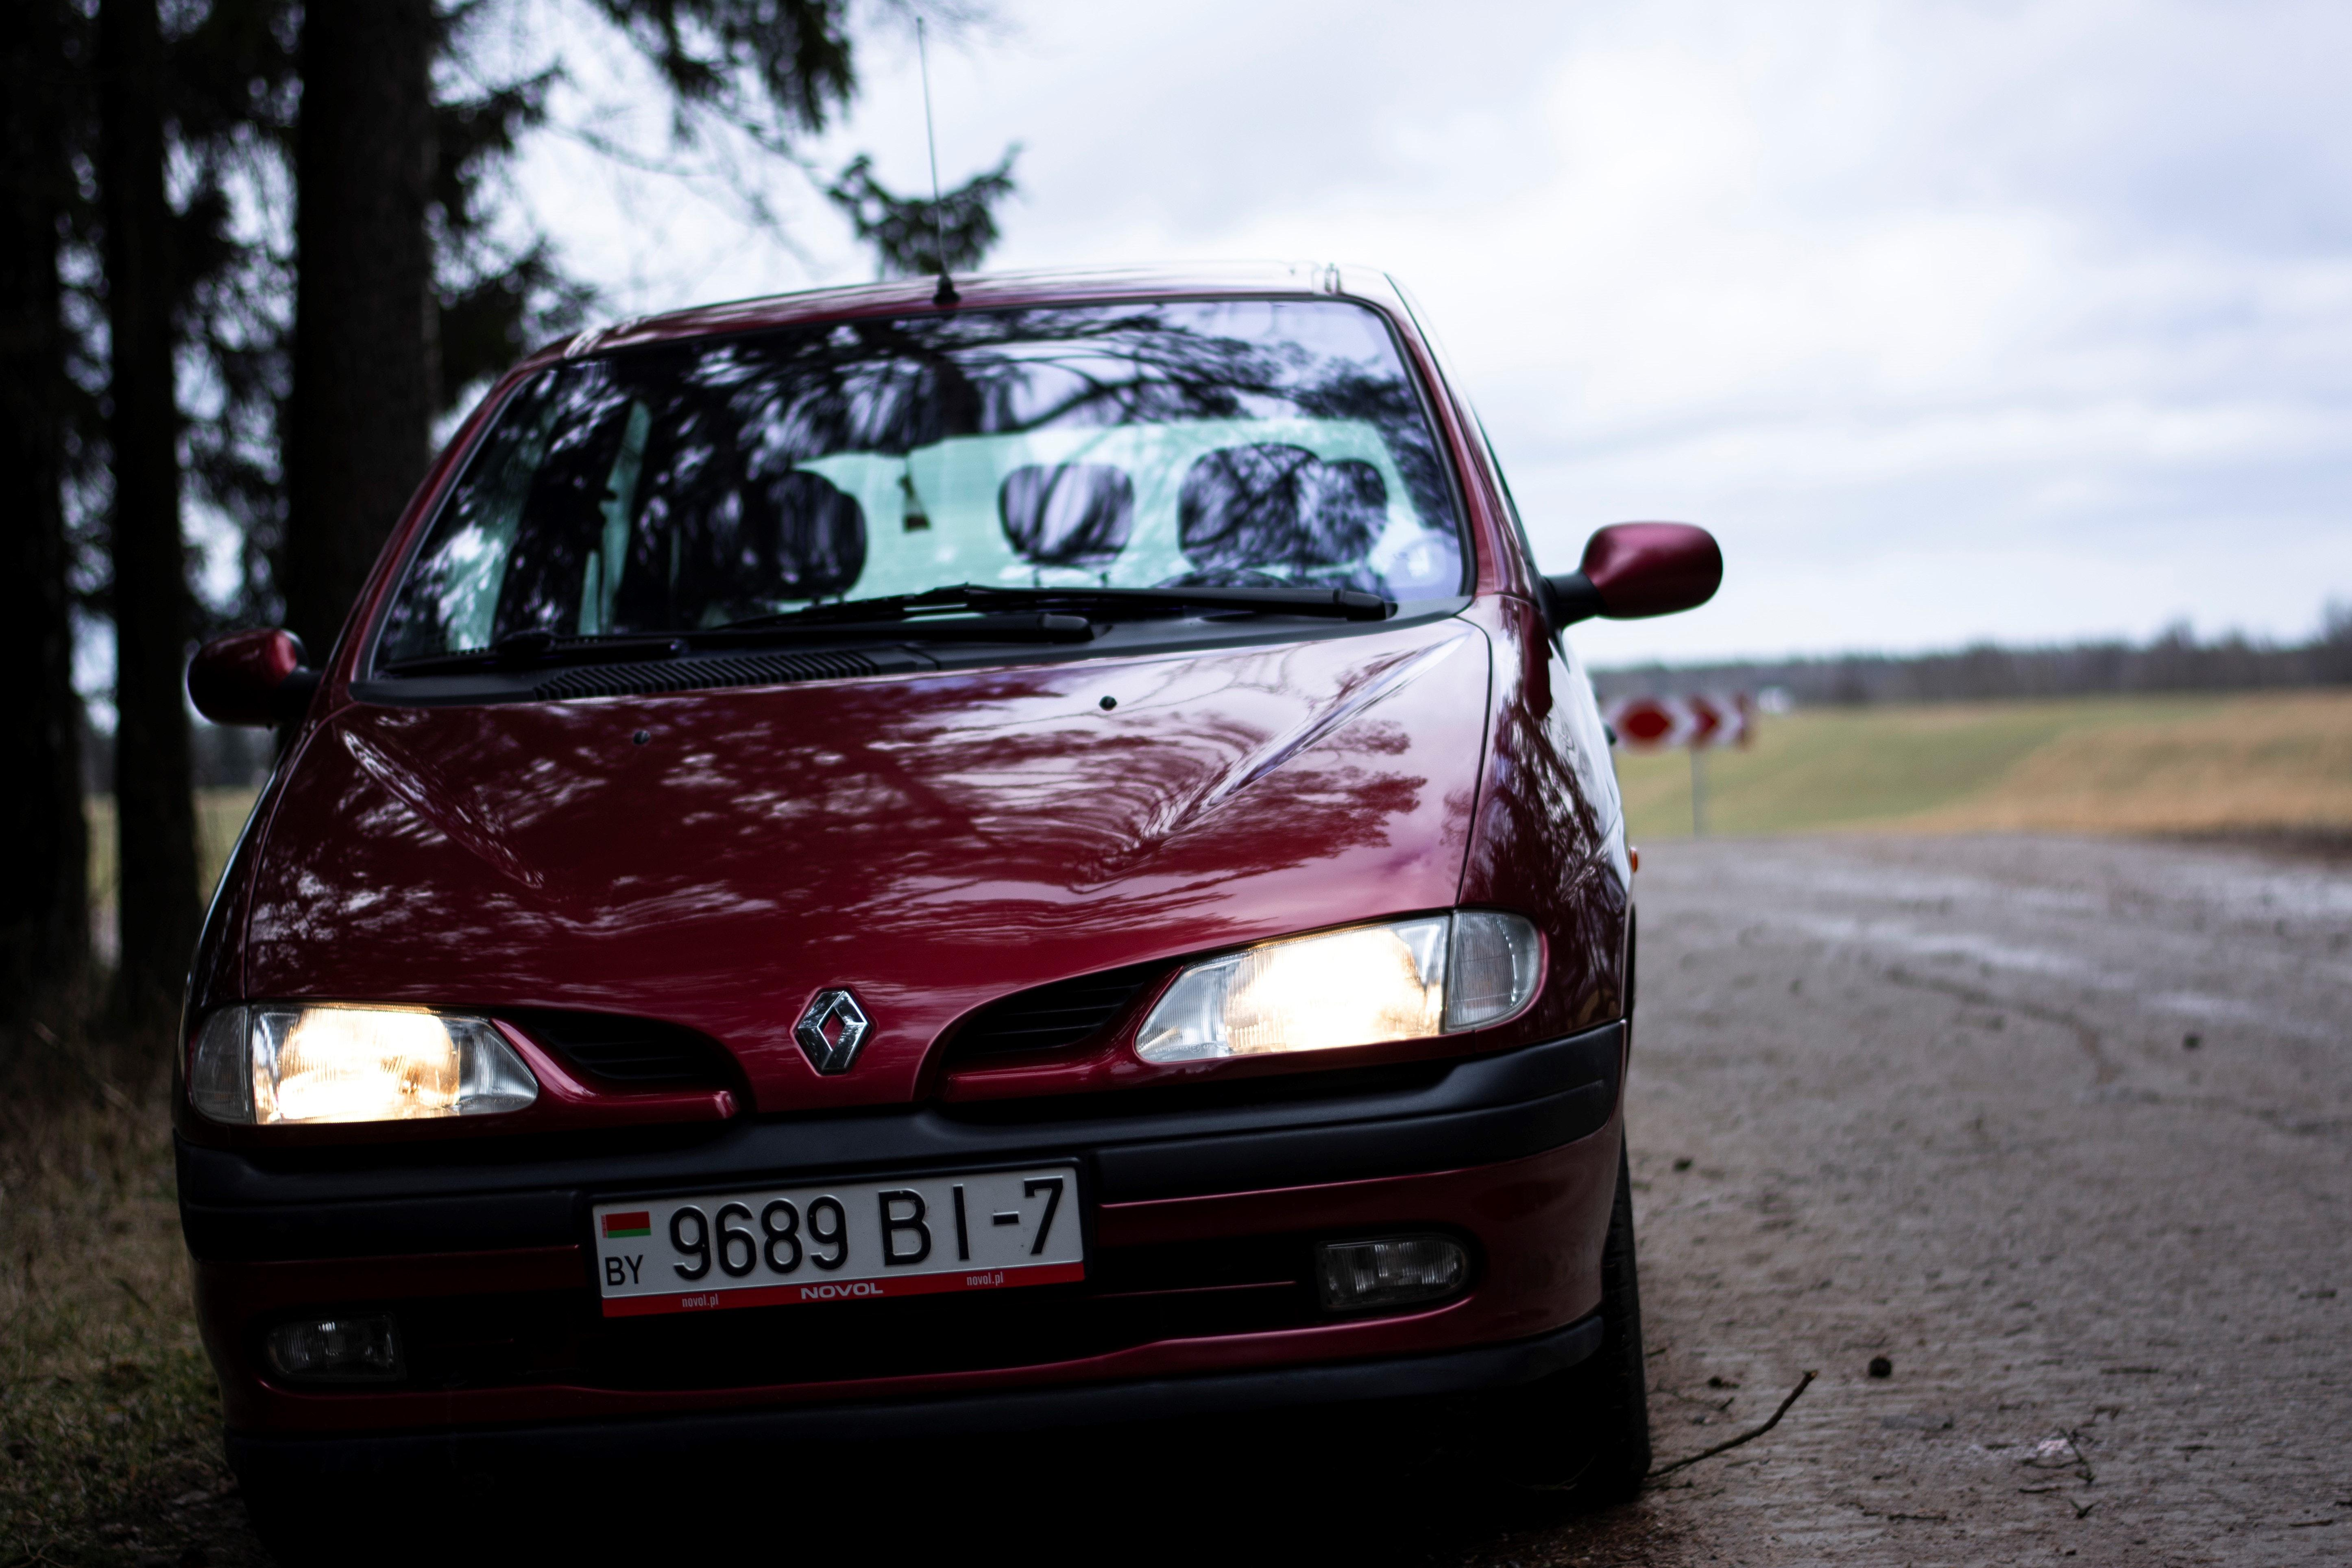Renault: (749, 961, 912, 1115)
